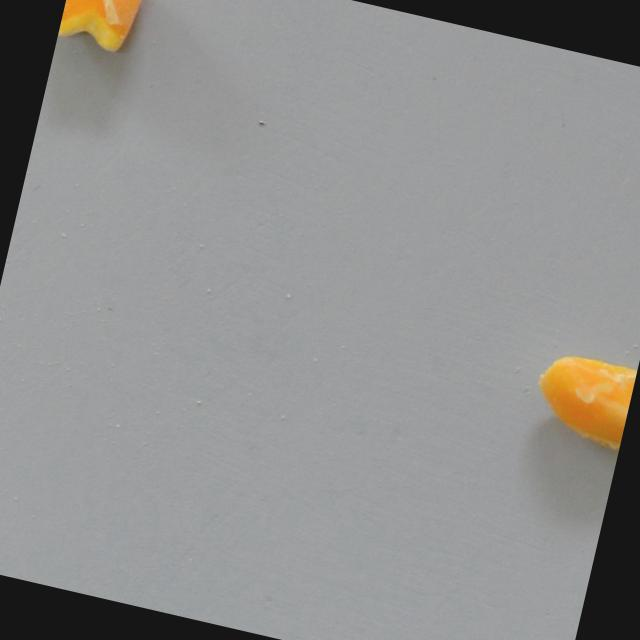pelicula: (518, 329, 640, 457), (56, 0, 150, 61)
